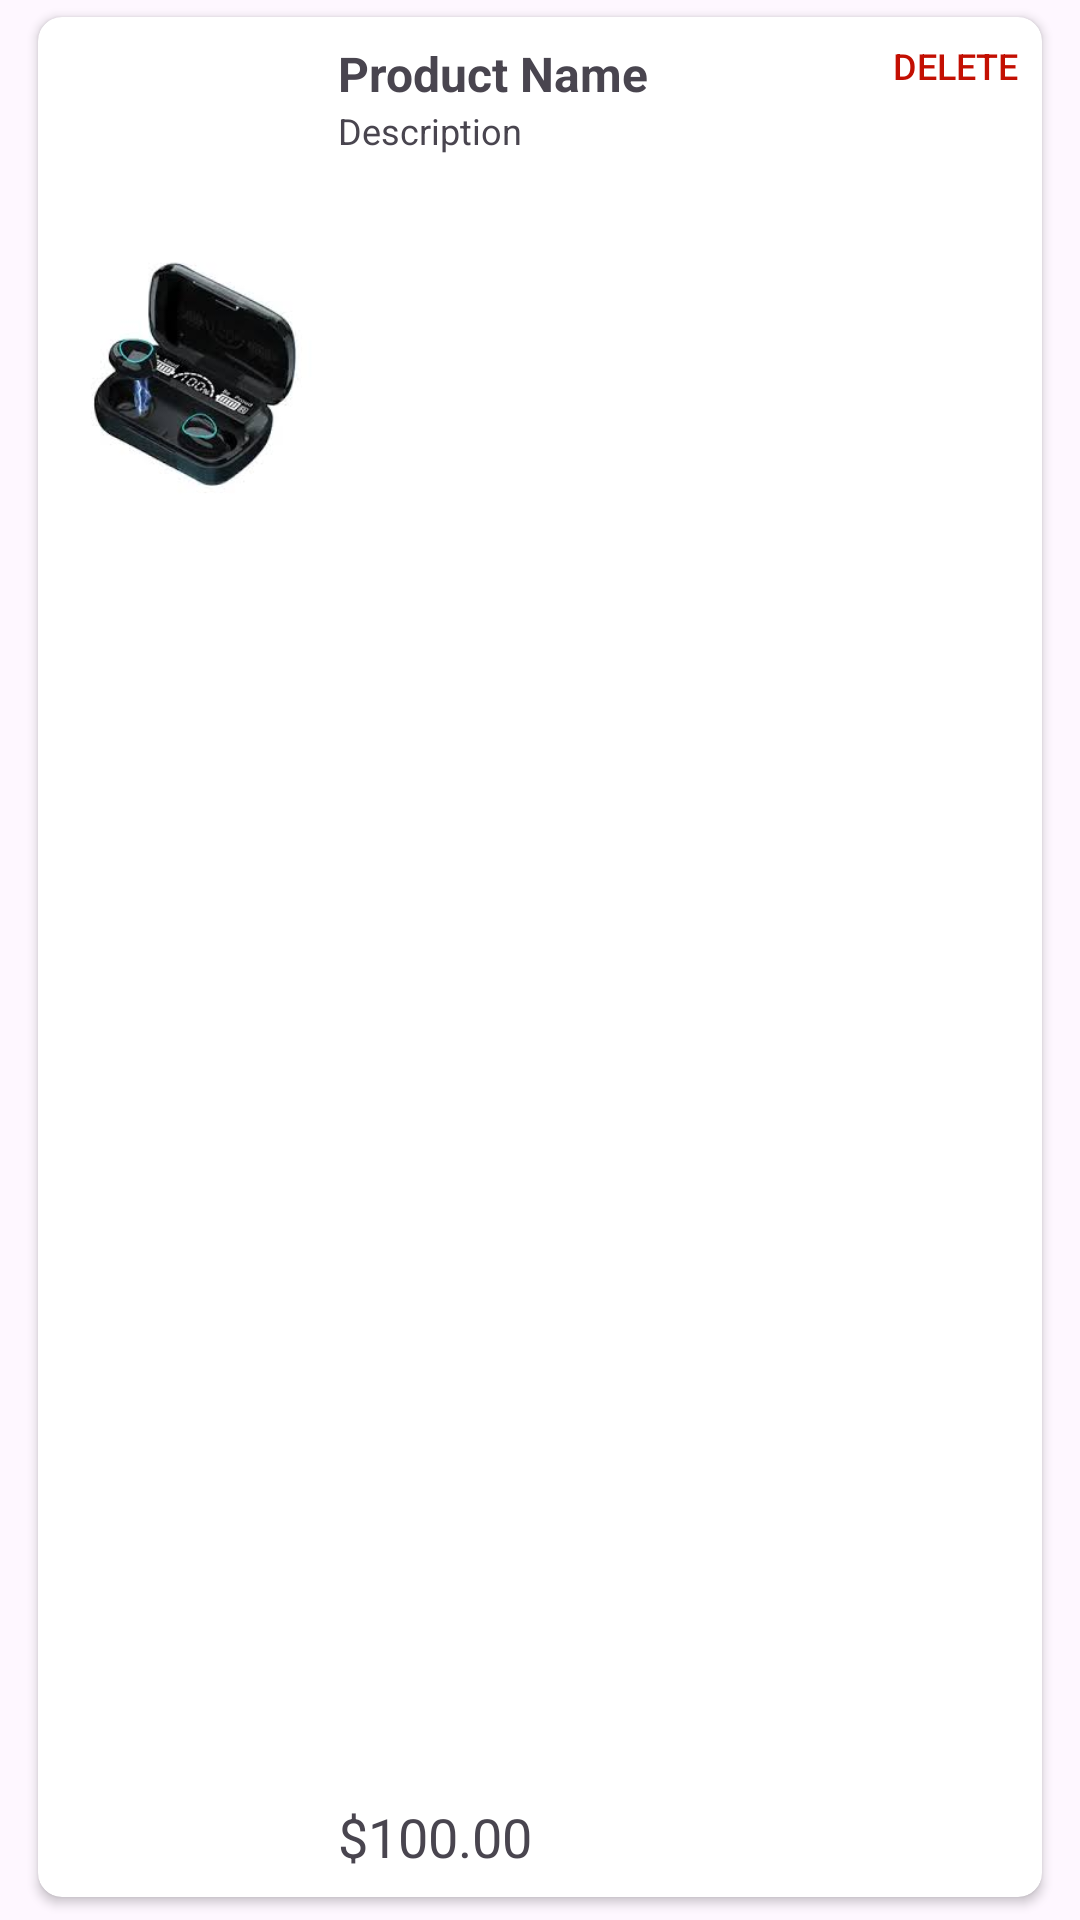

Icons on this 1080w x 1920h Android screen, each with its box as (x1, y1, x2, y2):
wireless earbuds: (94, 263, 296, 486)
